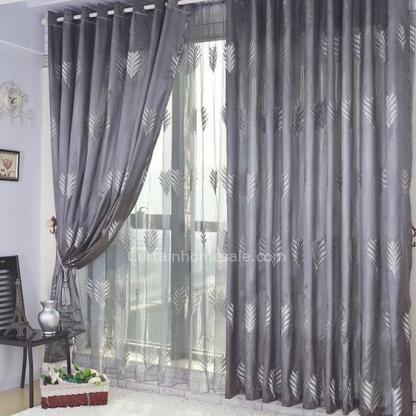Curtains: (45, 0, 416, 416)
